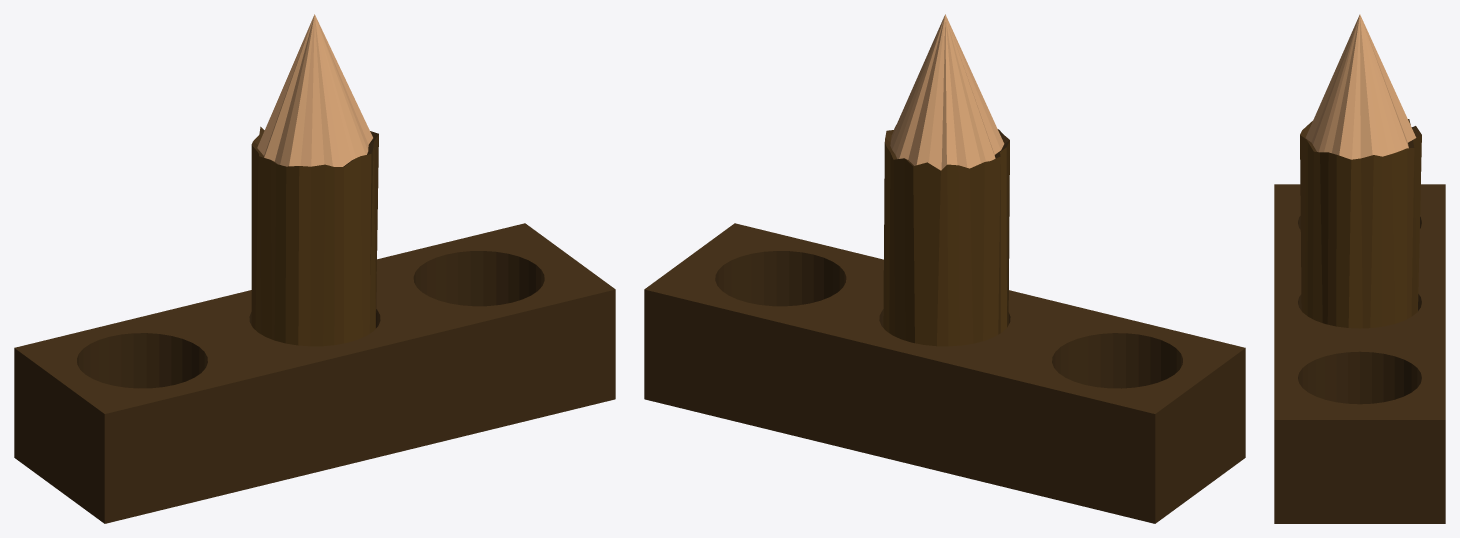
The model's file is Trap.fbx.
The picture shows the model from 3 angles, left to right: view 1: azimuth 30°, elevation 25°; view 2: azimuth 150°, elevation 25°; view 3: azimuth 270°, elevation 25°; orthographic projection. The views are drawn at different scales.
Visible parts, largest first — view 1: Куб, Цилиндр; view 2: Куб, Цилиндр; view 3: Куб, Цилиндр.
Boxes of the visible parts, x1,y1,x2,y2 form: Куб: (14,223,615,523); Цилиндр: (251,14,378,346); Куб: (644,223,1245,523); Цилиндр: (883,14,1009,346); Куб: (1274,184,1445,523); Цилиндр: (1300,14,1421,328).
Bounding box in the file's own units: 974 × 755 × 299.
